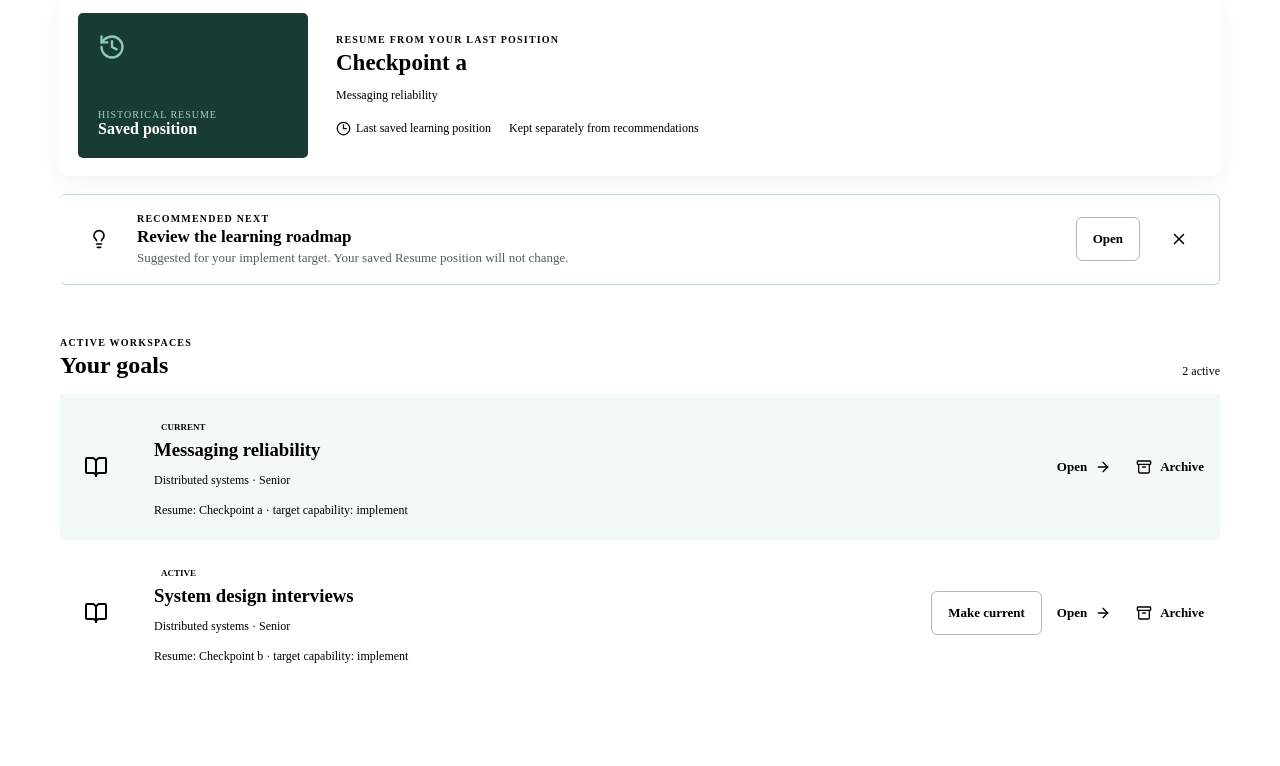
Test case: profile-backed goal pages › shows multiple goal cards and archives a workspace
(page scrolled)
Expected: the heading "Messaging reliability" is shown, [154, 439, 320, 460]
Expected: the heading "System design interviews" is shown, [154, 585, 354, 606]
Step 1. Click the button with aria-label "Archive System design interviews" → x=1170, y=613, box [1126, 591, 1214, 635]
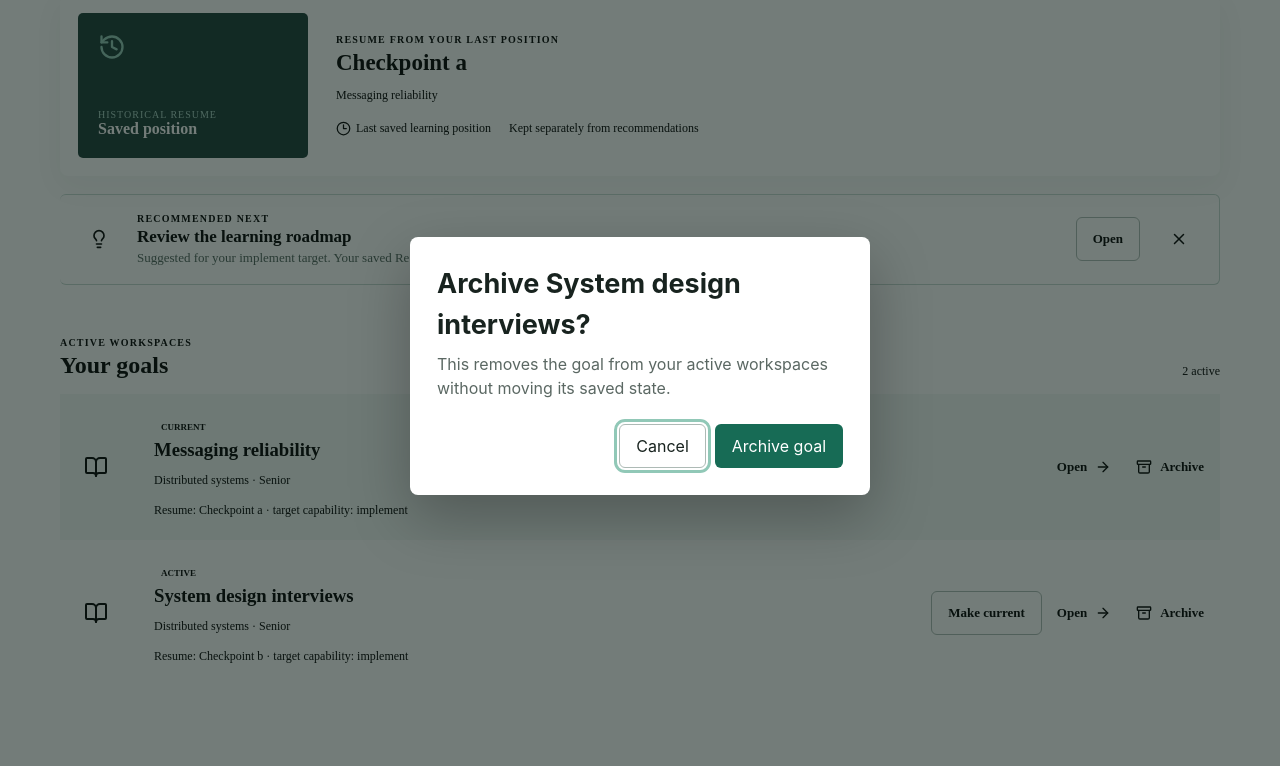
Step 2. Click the button "Archive goal" → x=779, y=446, box [715, 424, 843, 468]
(page scrolled)
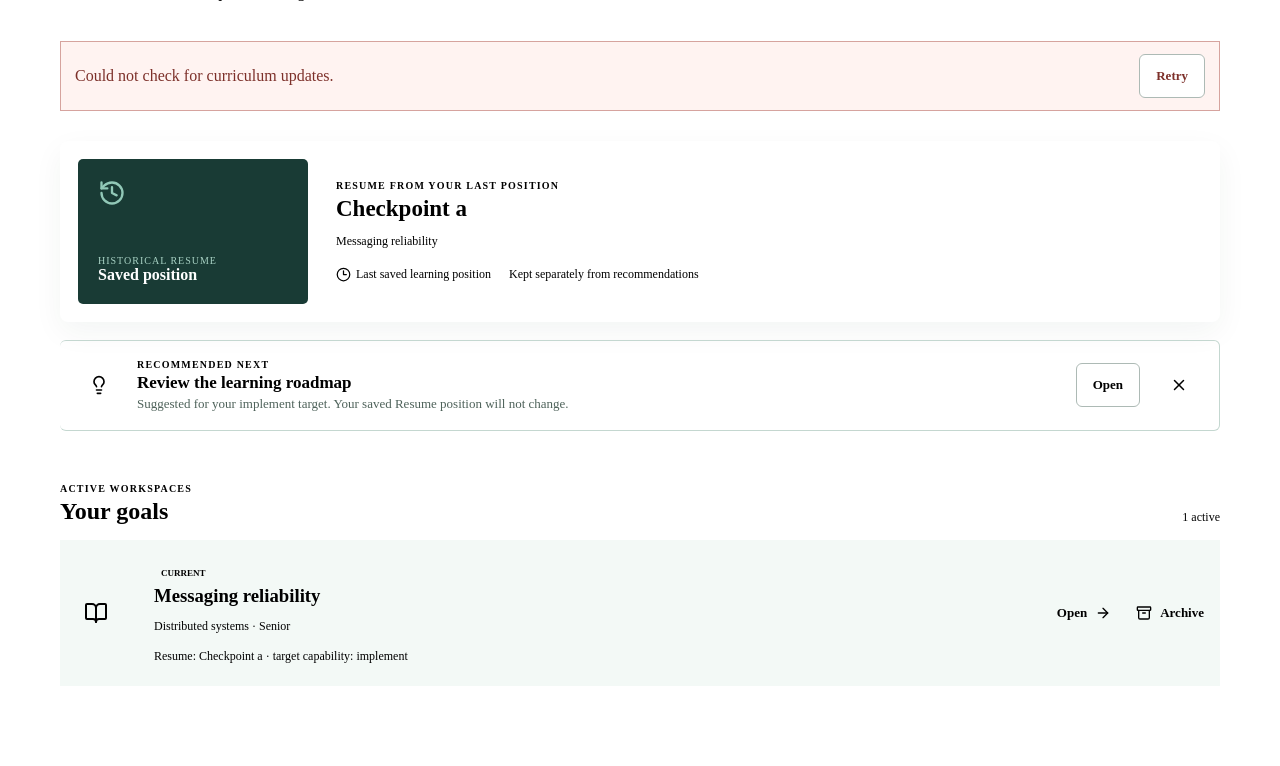
Now the heading "System design interviews" is gone
